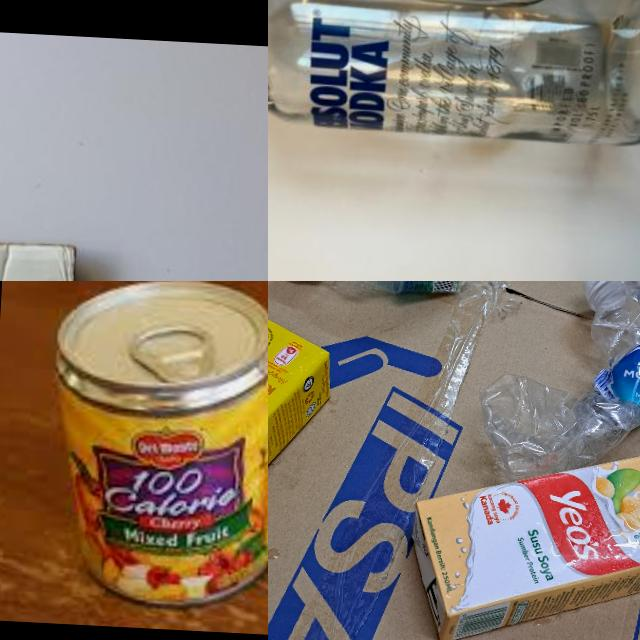aba de lata: (124, 320, 218, 384)
caixinha: (405, 436, 640, 640), (268, 307, 334, 592)
garrafa de vidro: (268, 0, 640, 148)
garrafa plástica: (475, 281, 640, 492)
lata: (39, 281, 268, 609)
papelão: (268, 281, 640, 640)
tampa plástica: (581, 281, 638, 300)
